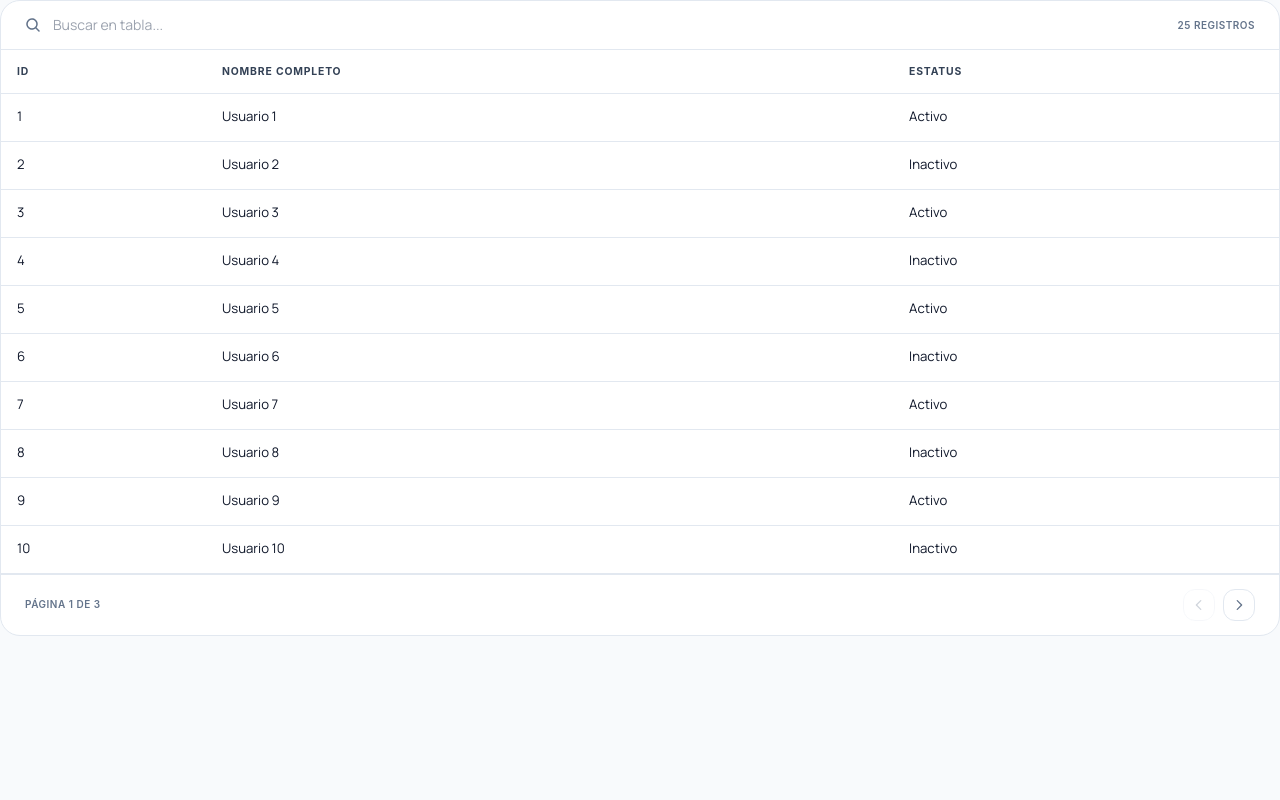
DataTable › debería buscar e ignorar case sensitivity
The width and height of the screenshot is (1280, 800).
# Buscar un usuario especifico
In the field with placeholder "Buscar en tabla...": (609, 25) [53, 15, 1166, 35], type "usuario 22"
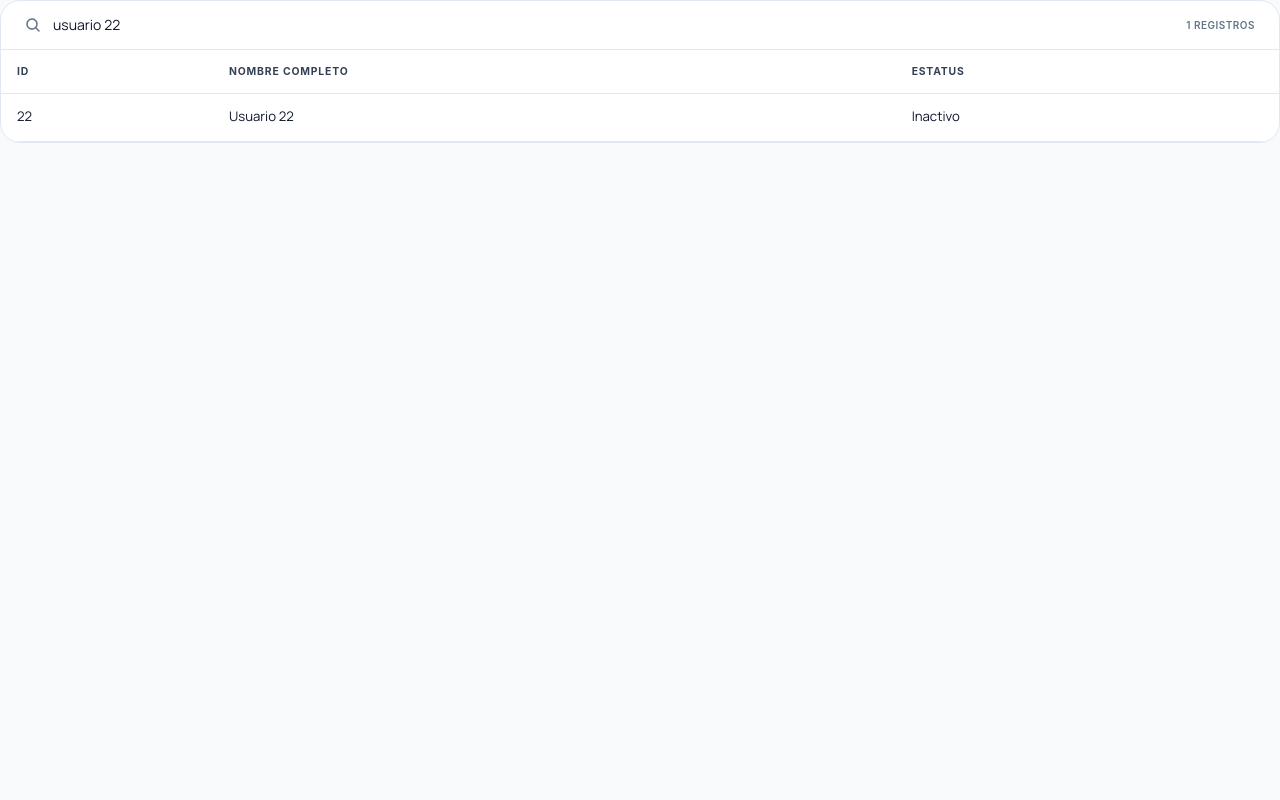
Expected: the text "Usuario 22" is shown, [213, 94, 896, 142]
Expected: the text "Usuario 1" is gone
